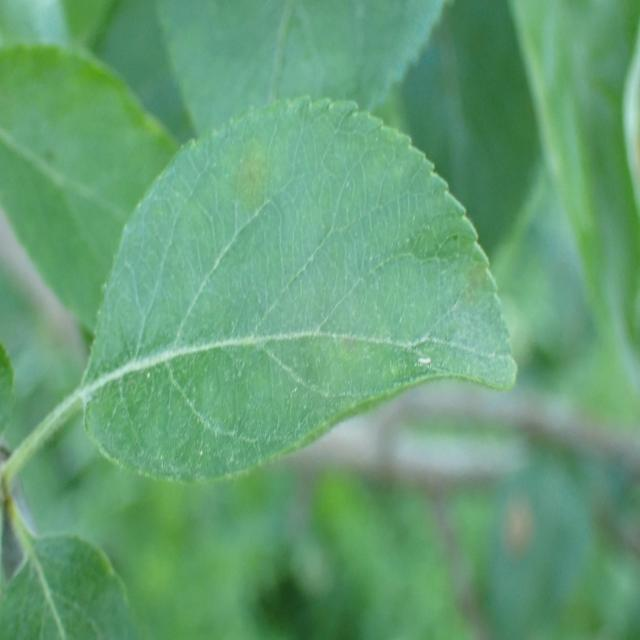scab: (195, 137, 502, 448)
